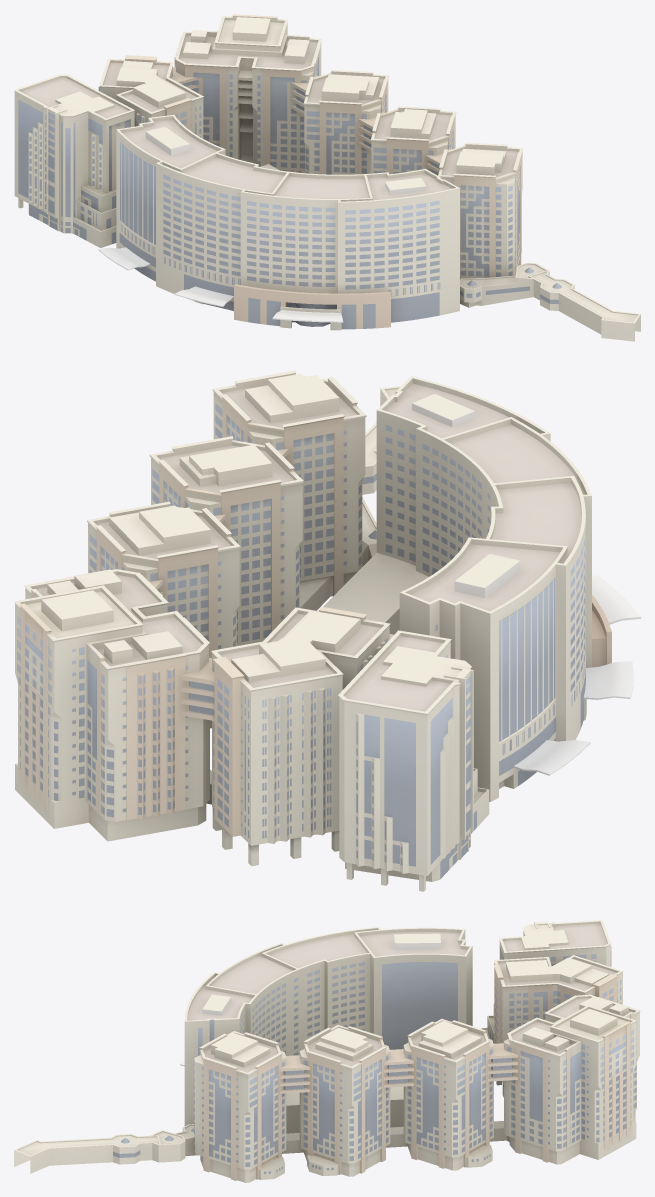
3 renders of one model, top to bottom at view 1: azimuth 30°, elevation 25°; view 2: azimuth 150°, elevation 25°; view 3: azimuth 270°, elevation 25°, orthographic. The views are drawn at different scales.
Visible parts, largest first — view 1: alrashidmall.004; view 2: alrashidmall.004; view 3: alrashidmall.004.
Part boxes in pixels (box(x1,y1,x2,y2)): alrashidmall.004: box(14, 14, 640, 341); alrashidmall.004: box(14, 370, 640, 891); alrashidmall.004: box(14, 920, 640, 1182).
Size of the model in its own units: 153 by 57.05 by 263.
Materials: 2 (2 with a texture image).
